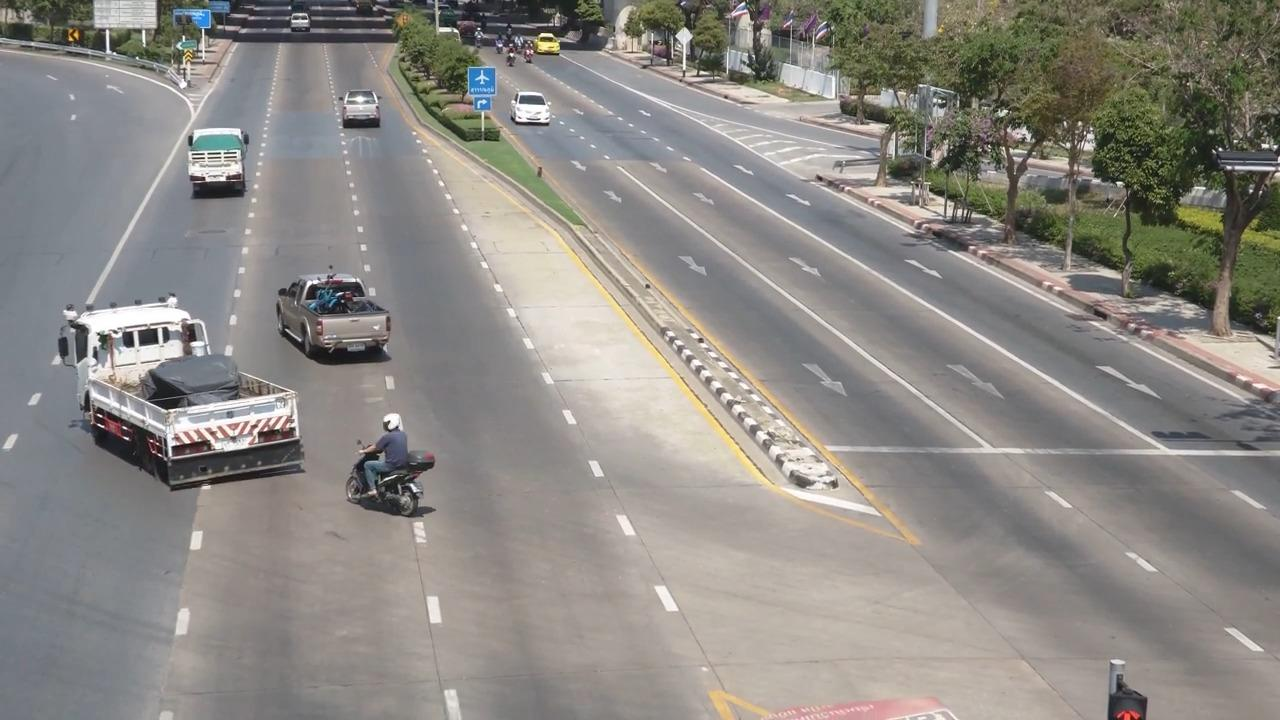CAR: (268, 266, 425, 382), (166, 113, 269, 215), (326, 76, 396, 150), (507, 82, 564, 142), (281, 3, 326, 46)
HGV_BUS: (41, 299, 305, 491)
MOTOR: (341, 406, 446, 532)
